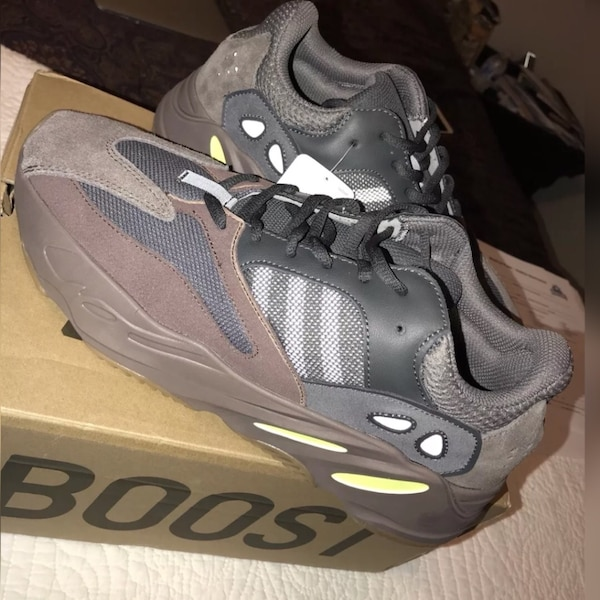adidas Yeezy 700 Mauve: (1, 90, 578, 558), (119, 4, 522, 279)
